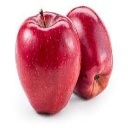apple: (56, 6, 113, 100)
